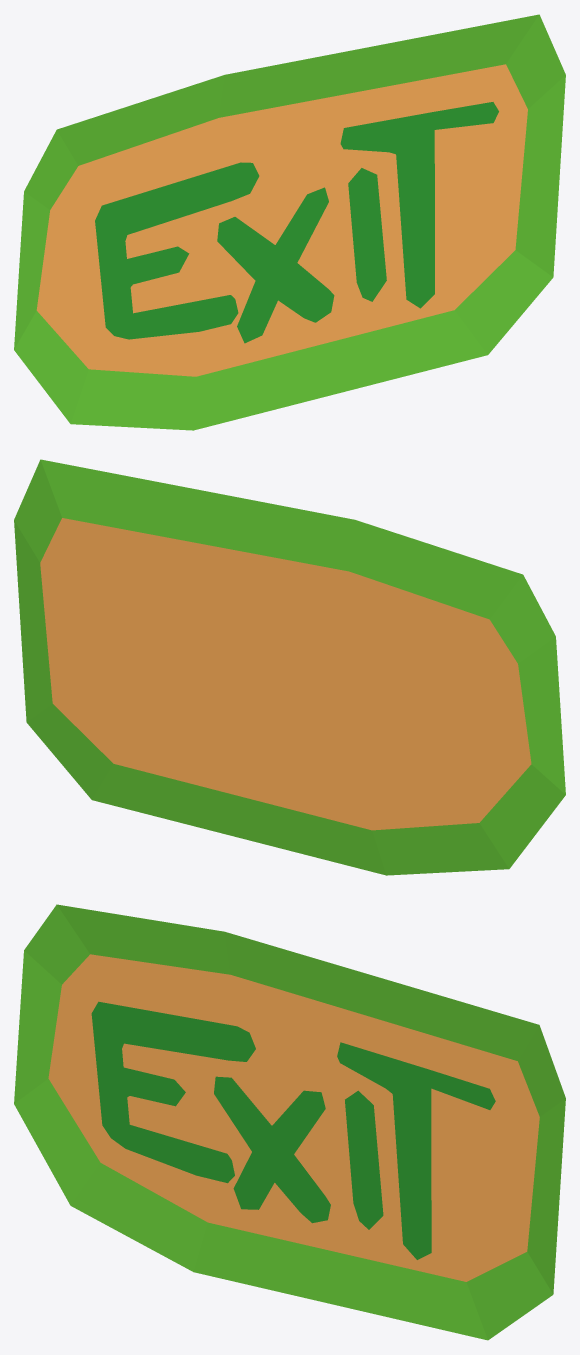
The model's file is exit-002.gltf.
3 views of the same model, one above another, from view 1: azimuth 30°, elevation 25°; view 2: azimuth 150°, elevation 25°; view 3: azimuth 330°, elevation 25° (orthographic).
Visible parts, largest first — view 1: Cartel-Exit-f.002; view 2: Cartel-Exit-f.002; view 3: Cartel-Exit-f.002.
Part boxes in pixels (box(x1,y1,x2,y2)): Cartel-Exit-f.002: box(14, 14, 565, 430); Cartel-Exit-f.002: box(14, 459, 565, 875); Cartel-Exit-f.002: box(14, 904, 565, 1340).
Size of the model in its own units: 0.2773 by 0.1671 by 0.0066.
1 material, 1 textured.
